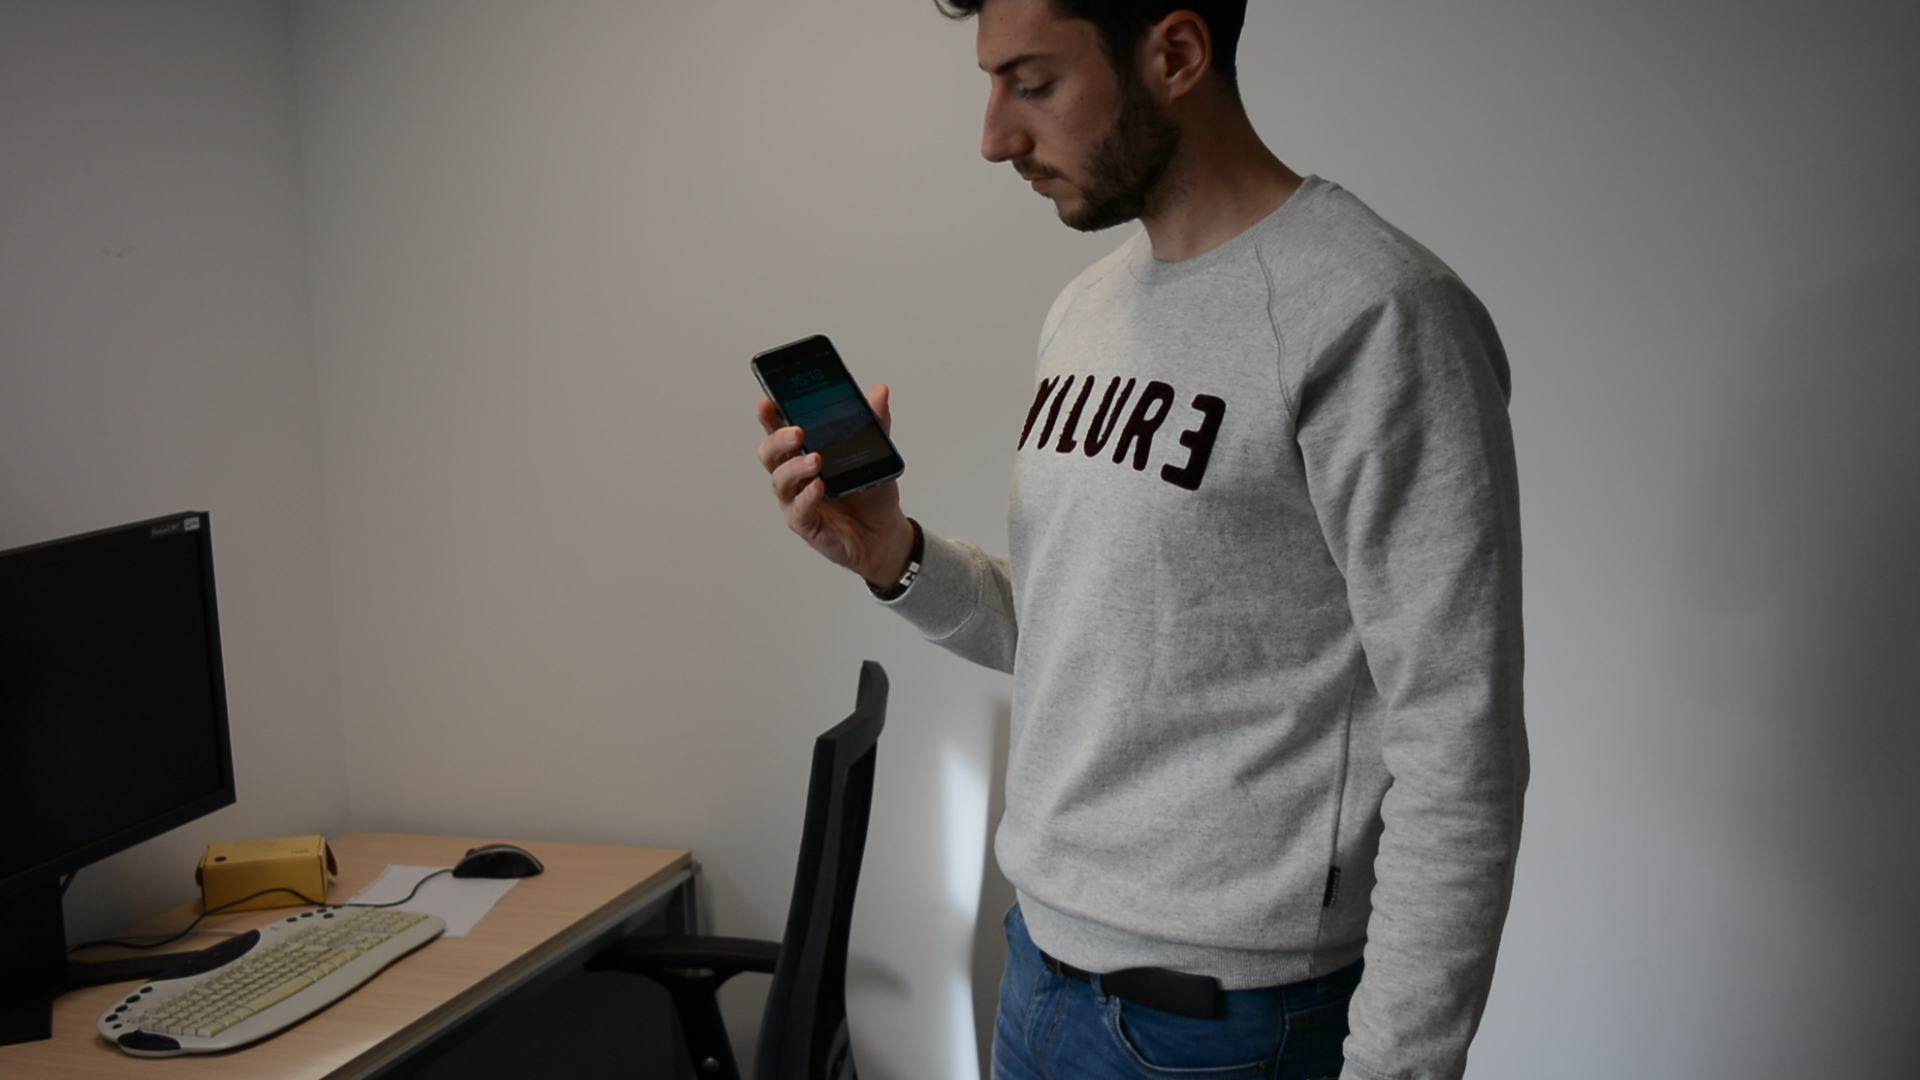smartphone: (750, 332, 909, 502)
